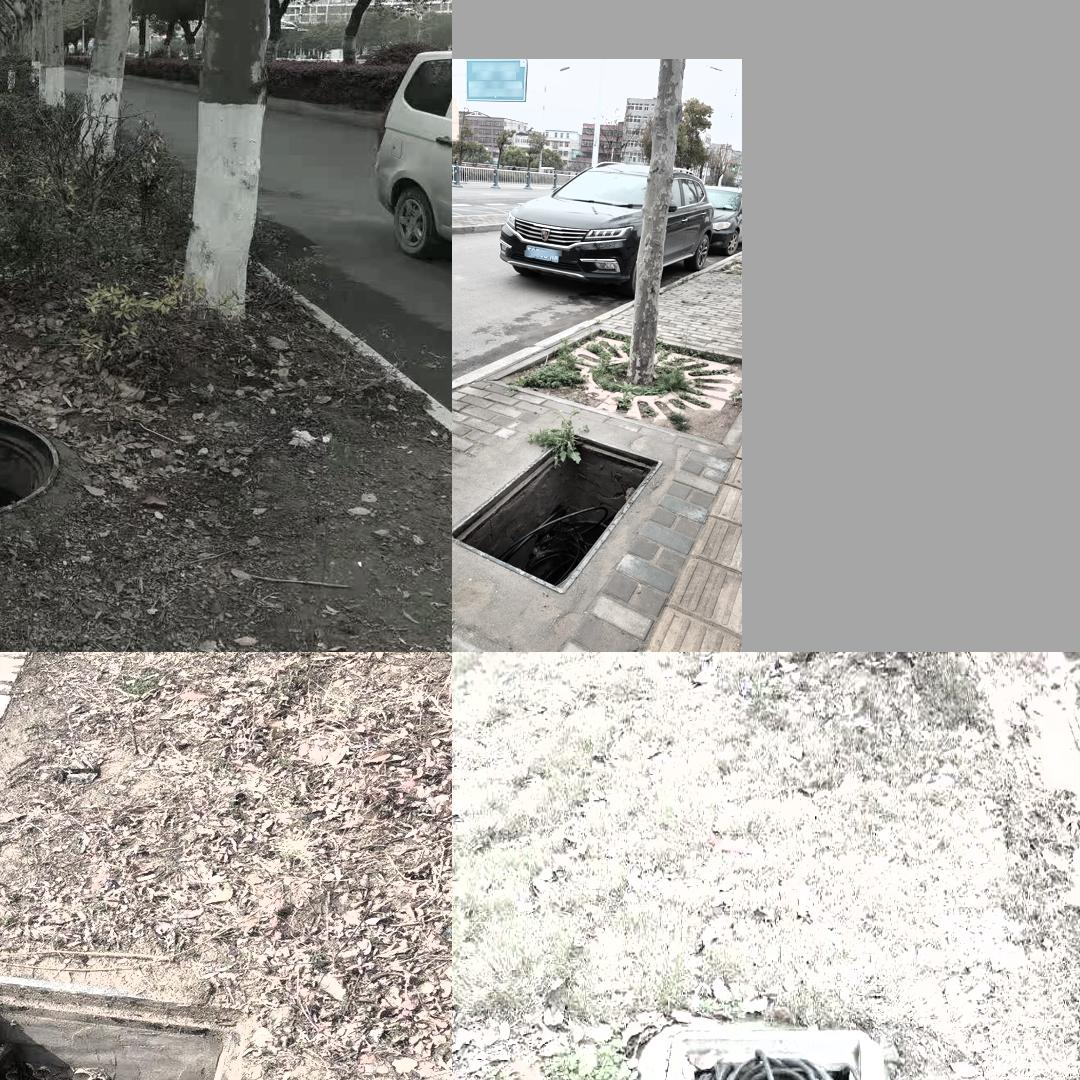lose: (452, 436, 662, 599), (0, 977, 262, 1080), (609, 998, 914, 1080), (0, 407, 62, 526)
